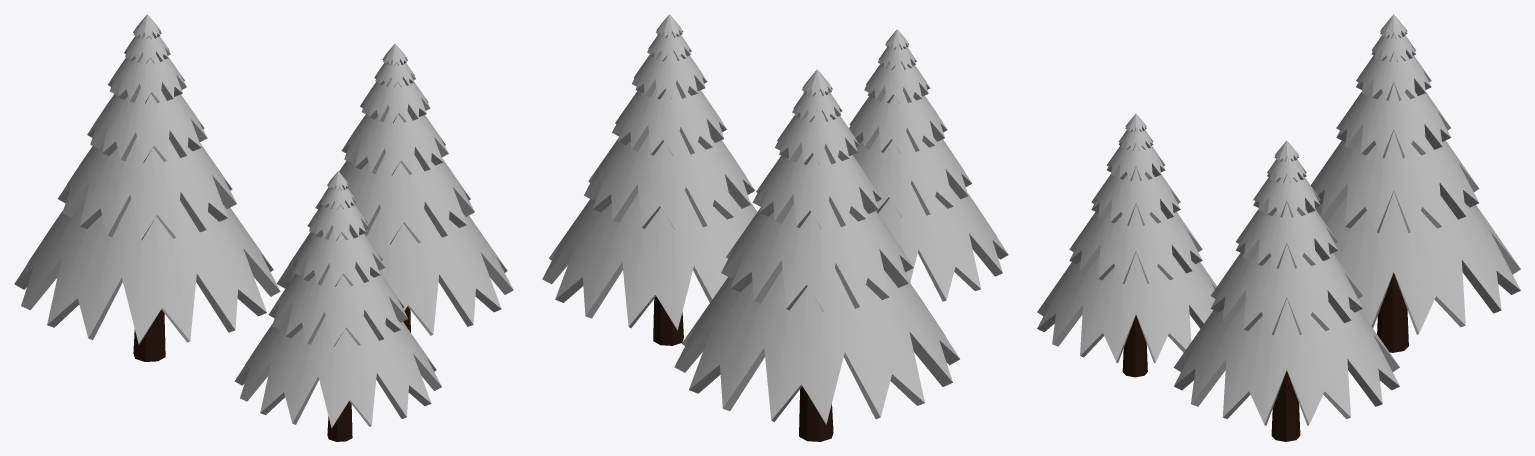
File: three_tree_winter.glb
3 renders of one model, left to right at view 1: azimuth 30°, elevation 25°; view 2: azimuth 150°, elevation 25°; view 3: azimuth 270°, elevation 25°, orthographic. The views are drawn at different scales.
Visible parts, largest first — view 1: Окружность.001, Окружность.002, Окружность.003; view 2: Окружность.001, Окружность.003, Окружность.002; view 3: Окружность.001, Окружность.003, Окружность.002.
Part boxes in pixels (box(x1,y1,x2,y2)): Окружность.001: box(14, 14, 280, 361); Окружность.002: box(234, 171, 441, 441); Окружность.003: box(276, 43, 513, 335); Окружность.001: box(674, 69, 959, 441); Окружность.003: box(542, 14, 757, 345); Окружность.002: box(849, 29, 1008, 301); Окружность.001: box(1310, 14, 1520, 352); Окружность.003: box(1174, 140, 1399, 441); Окружность.002: box(1037, 113, 1216, 377).
Bounding box in the file's own units: 3.19 × 2.56 × 3.39.
Materials: 2 (2 with a texture image).
